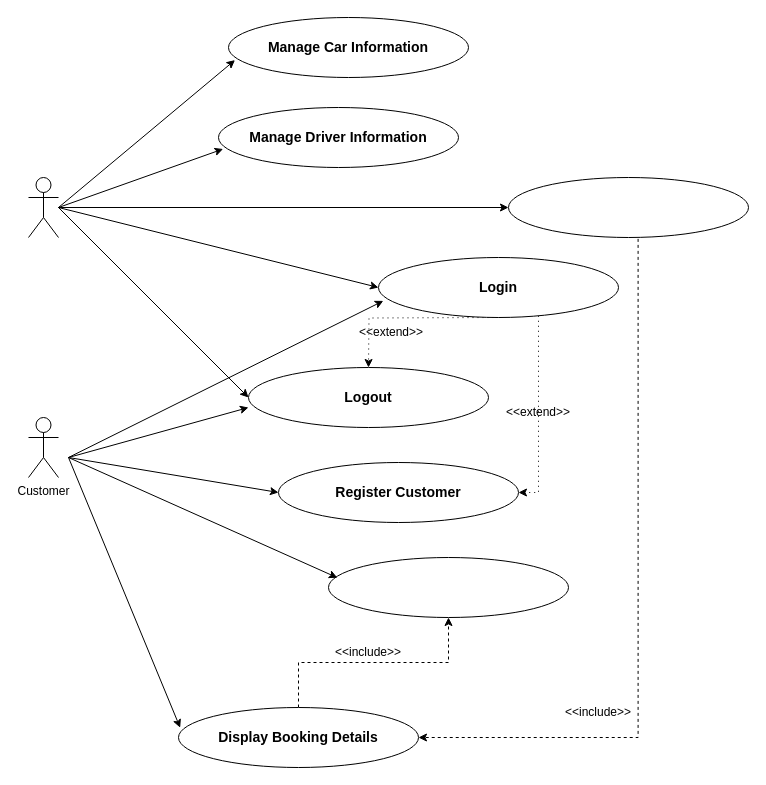
This 766x785 diagram has some shape labels left out. The box of each missing label's shape, as (x1, y1, x2, y2) in pixels:
Add Booking: (328, 556, 568, 618)
Admin: (28, 176, 58, 238)
Calculate and Print Bill: (508, 176, 748, 238)
